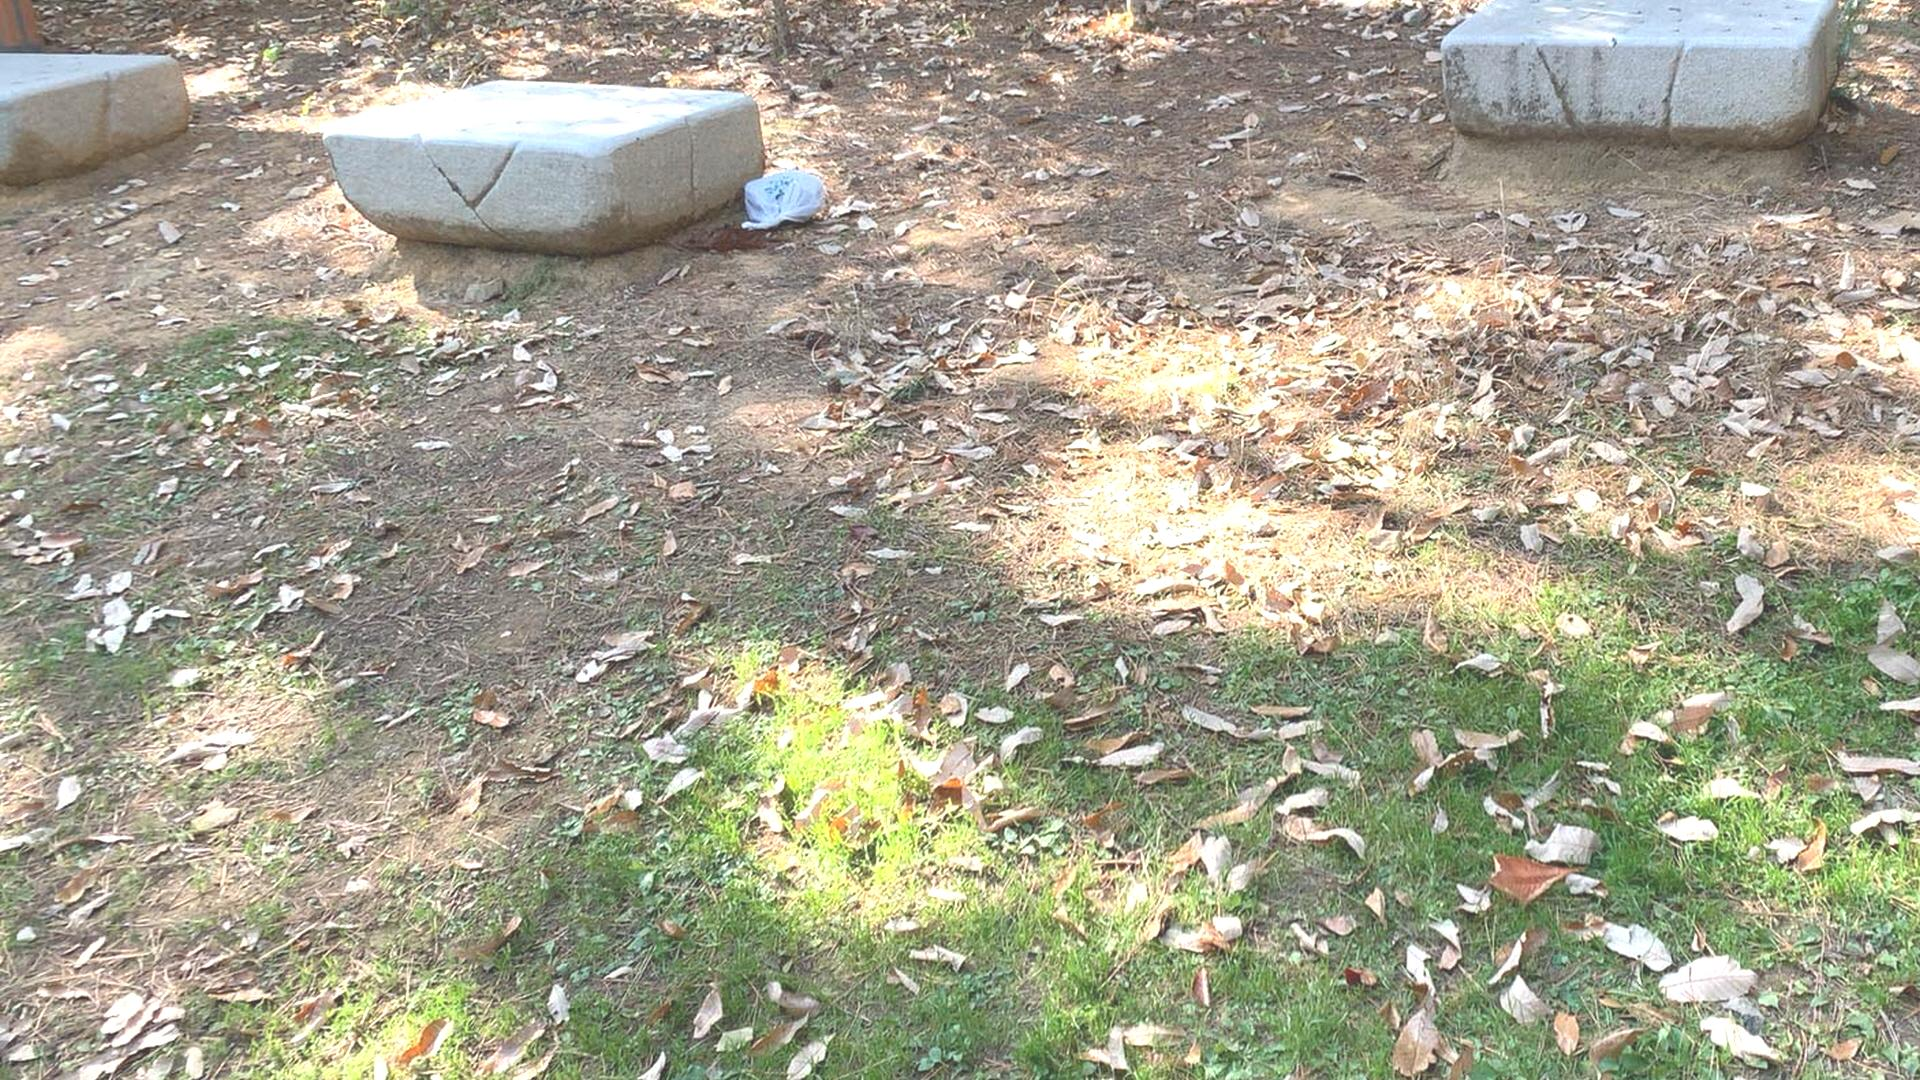white_bag: (735, 160, 831, 236)
